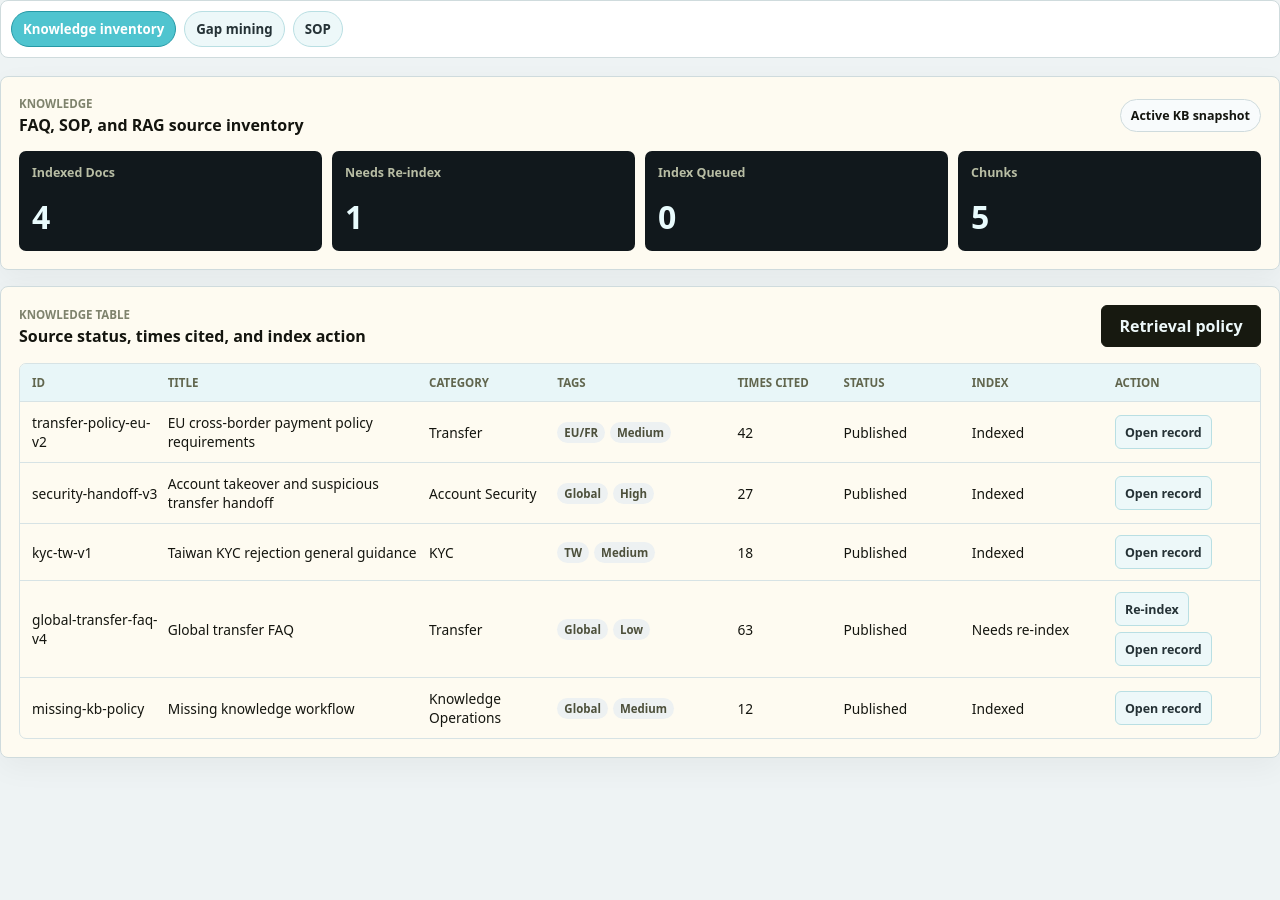
Test: KnowledgeBase inventory actions › opens the retrieval policy explainer from the table heading
What coordinates should you click on to do the following:
click the button with test id "retrieval-policy-button"
I would click on:
 (1181, 326)
Its box is [1101, 306, 1261, 348].
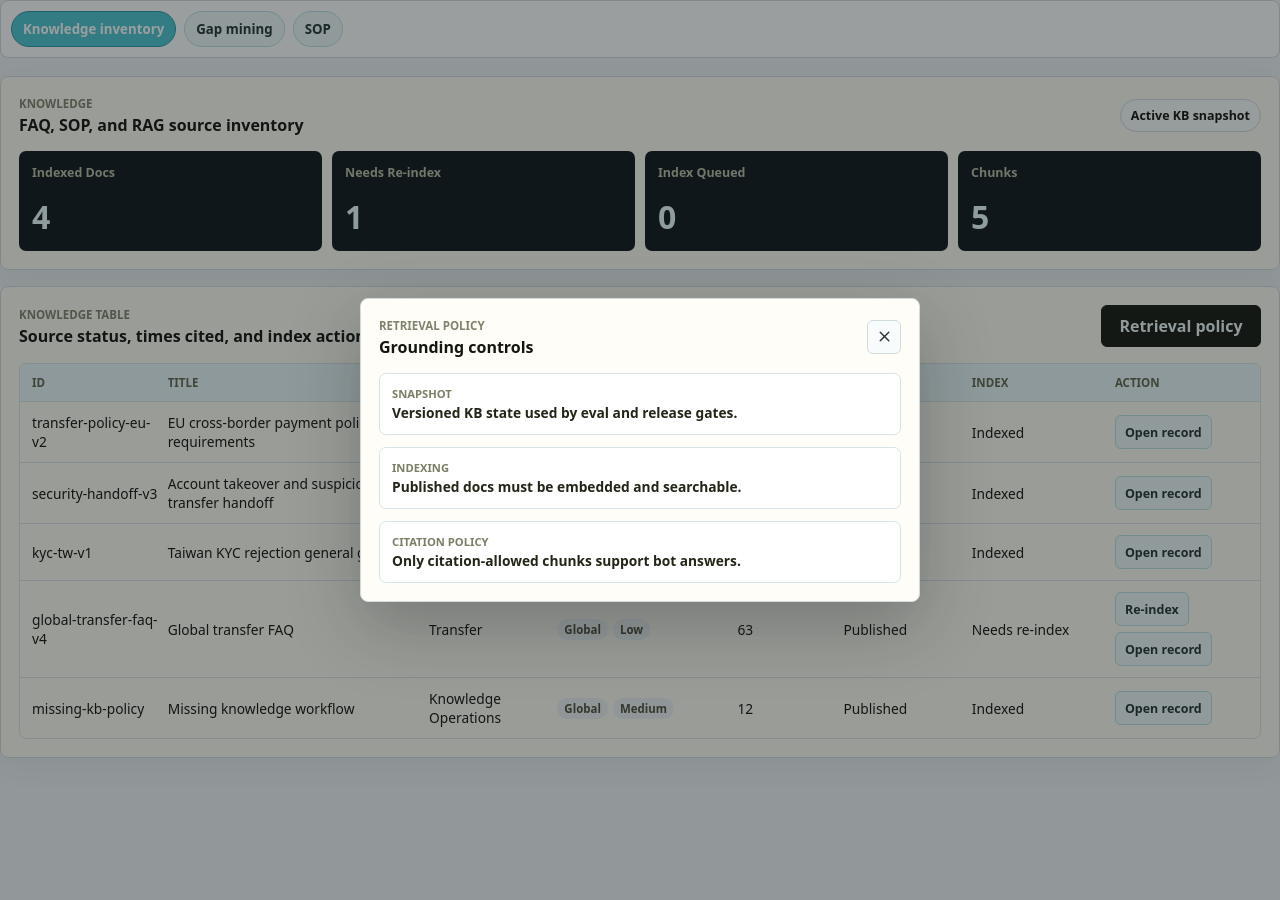
Expected: the dialog with test id "retrieval-policy-modal" shows "Grounding controls", [379, 336, 534, 358]
What coordinates should you click on to do the following:
click the button named "Close retrieval policy"
I would click on:
 (884, 337)
Its box is [867, 320, 901, 354].
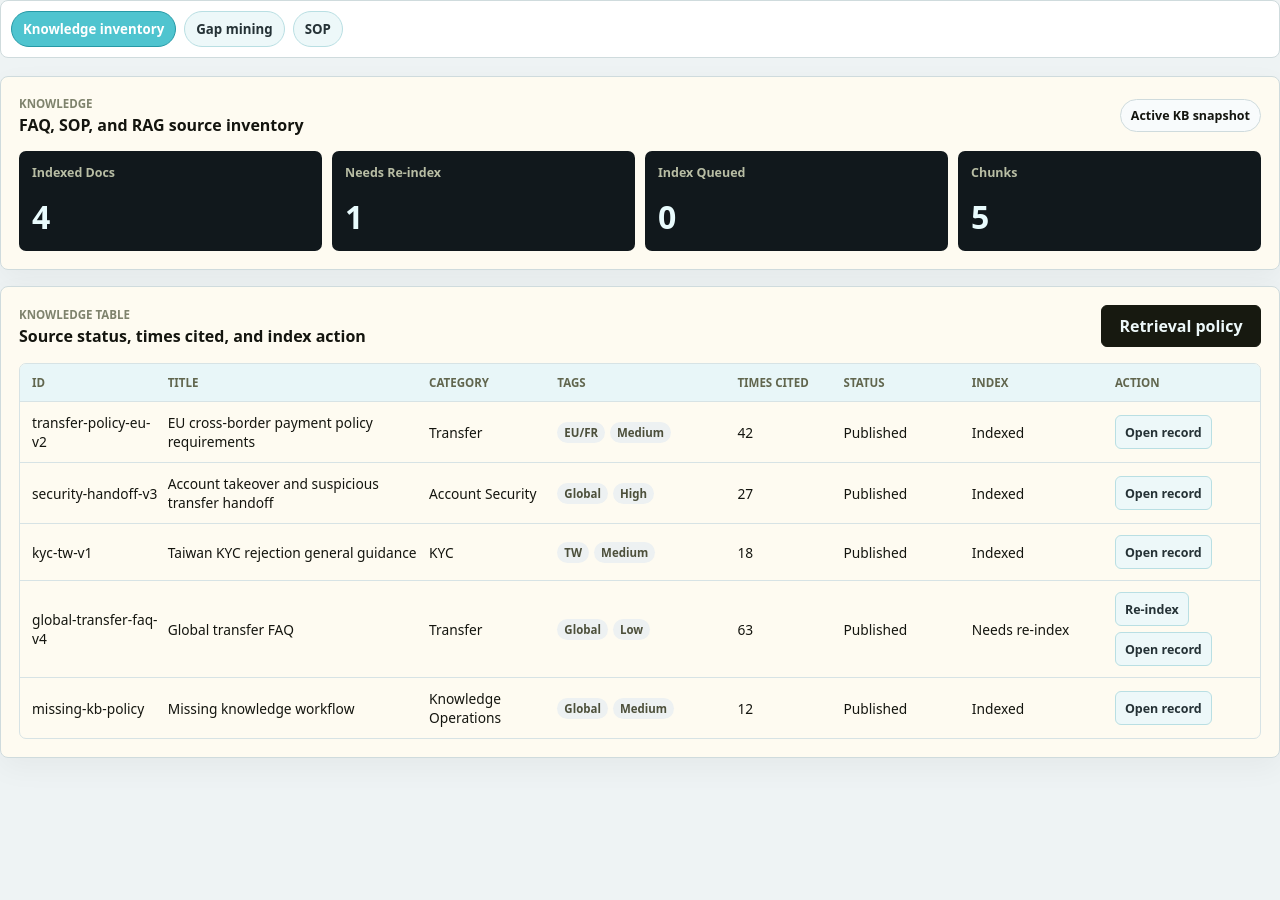
Expected: the dialog with test id "retrieval-policy-modal" is gone
